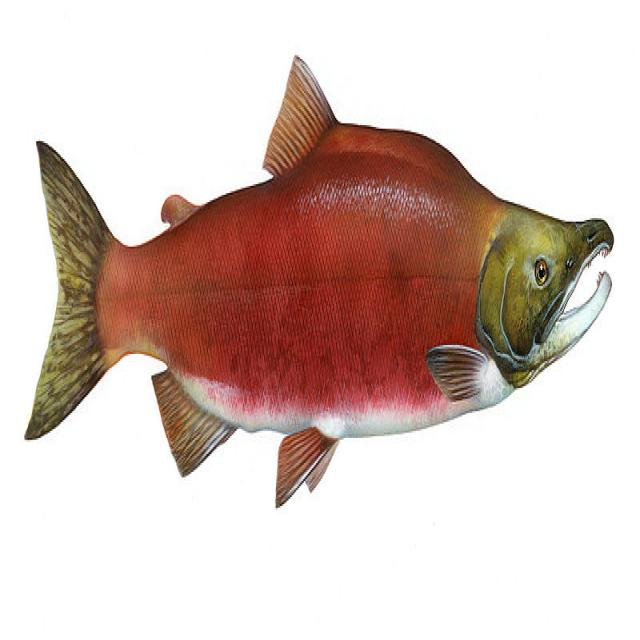salmon: (25, 49, 619, 520)
